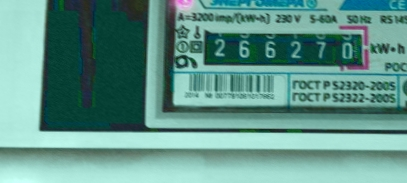0: (338, 38, 353, 58)
2: (211, 35, 225, 56), (288, 38, 302, 58)
6: (236, 36, 249, 57), (262, 37, 276, 56)
7: (314, 38, 325, 57)
screen: (190, 18, 374, 74)
